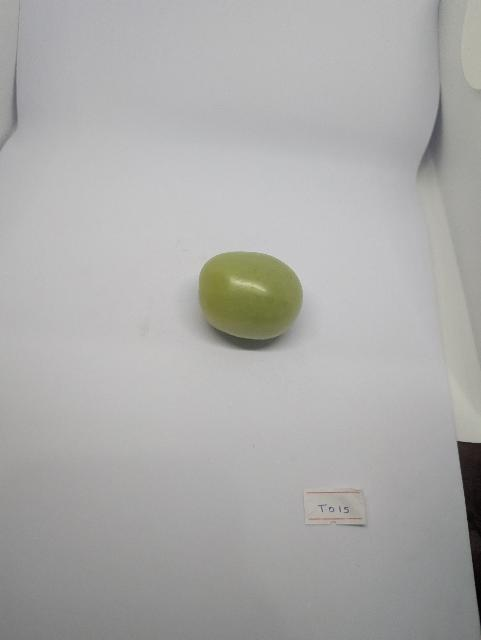green: (198, 250, 306, 342)
